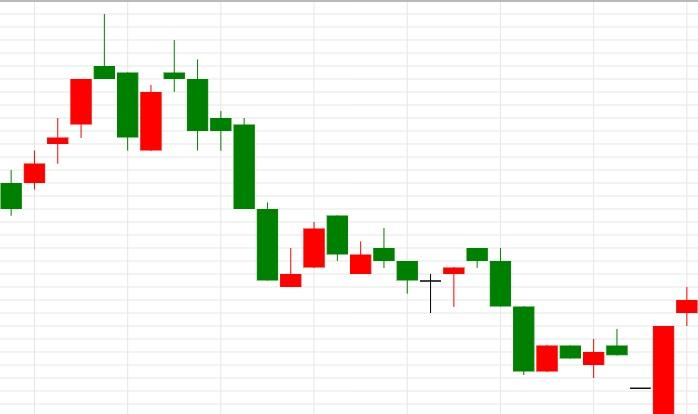evening_star_fall: (1, 14, 138, 216)
morning_star_rise: (164, 39, 325, 286)
